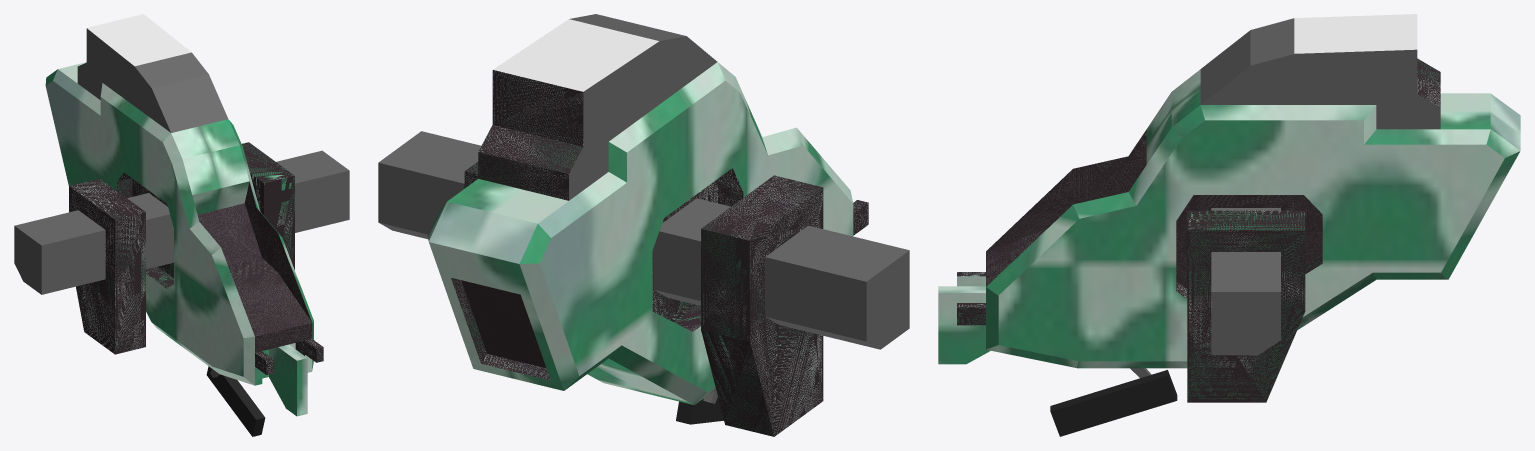
Rendered from luoRobot1LowerBody.dae.
The picture shows the model from 3 angles, left to right: view 1: azimuth 30°, elevation 25°; view 2: azimuth 150°, elevation 25°; view 3: azimuth 270°, elevation 25°; orthographic projection. The views are drawn at different scales.
Parts seen in each view (by area): view 1: SketchUp (×12), Laser; view 2: SketchUp (×11), Laser; view 3: SketchUp (×7), Laser.
Boxes of the visible parts, x1,y1,x2,y2 form: SketchUp (×12): (14,14,349,416); Laser: (206,366,265,436); SketchUp (×11): (378,14,909,436); Laser: (676,397,723,424); SketchUp (×7): (938,14,1520,402); Laser: (1050,370,1177,436).
Size of the model in its own units: 96.19 by 123 by 93.48.
5 materials, 1 textured.
